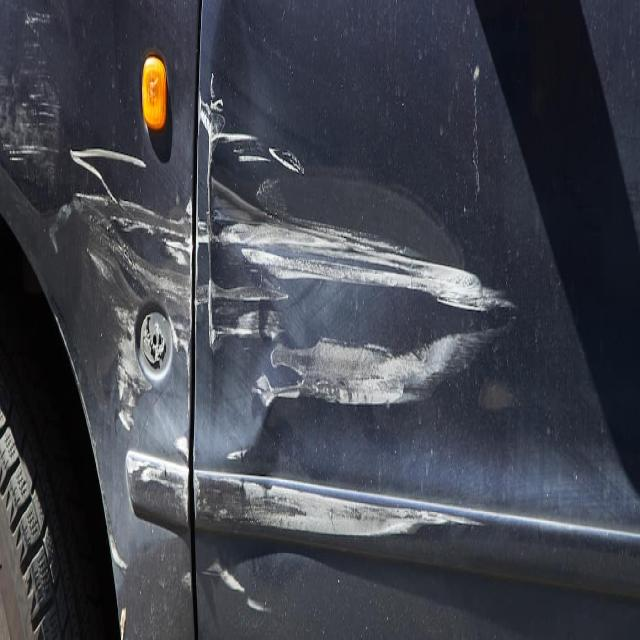dent: (125, 0, 461, 562)
scratch: (0, 9, 516, 536), (55, 313, 128, 574), (202, 557, 272, 615), (473, 65, 481, 206), (183, 569, 192, 593), (120, 608, 126, 640)
